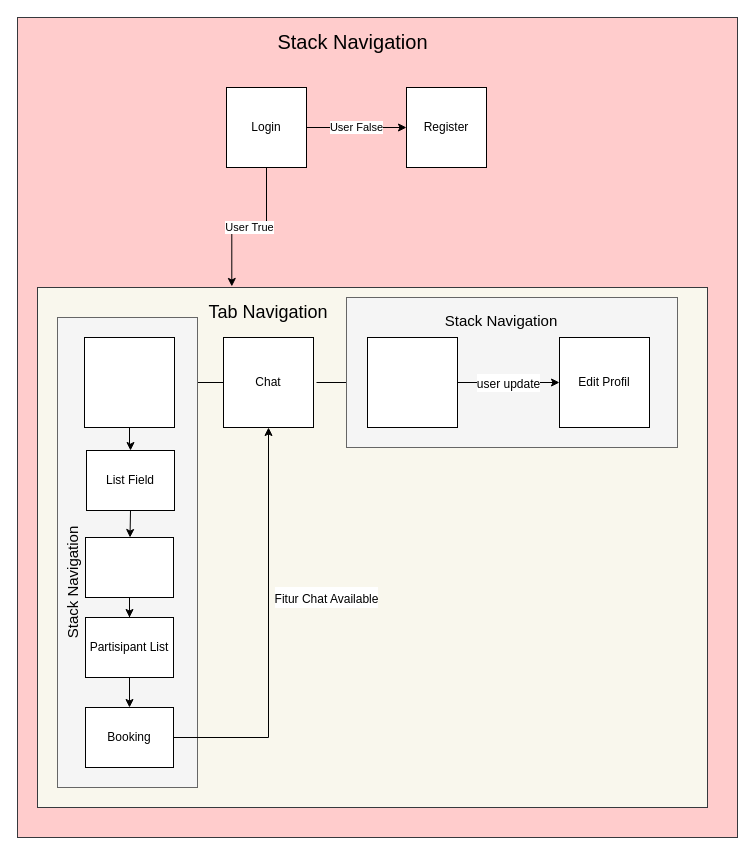
Image size: 755x855. Some labels were removed from this diagram. The centre of each missing label's shape, as x and y in pixels:
"Detail" belongs at point (129, 567).
"My List Field" belongs at point (129, 382).
"Profil" belongs at point (412, 382).
